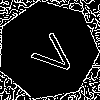V: (23, 25, 80, 81)
